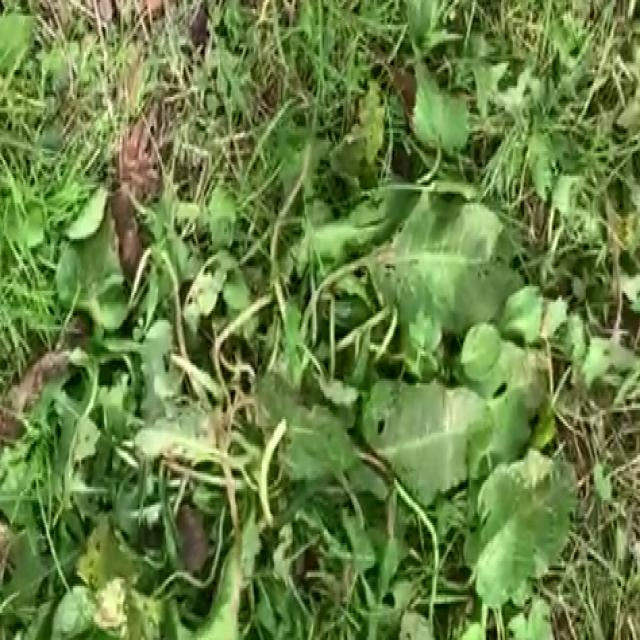organic waste: (32, 92, 600, 640)
